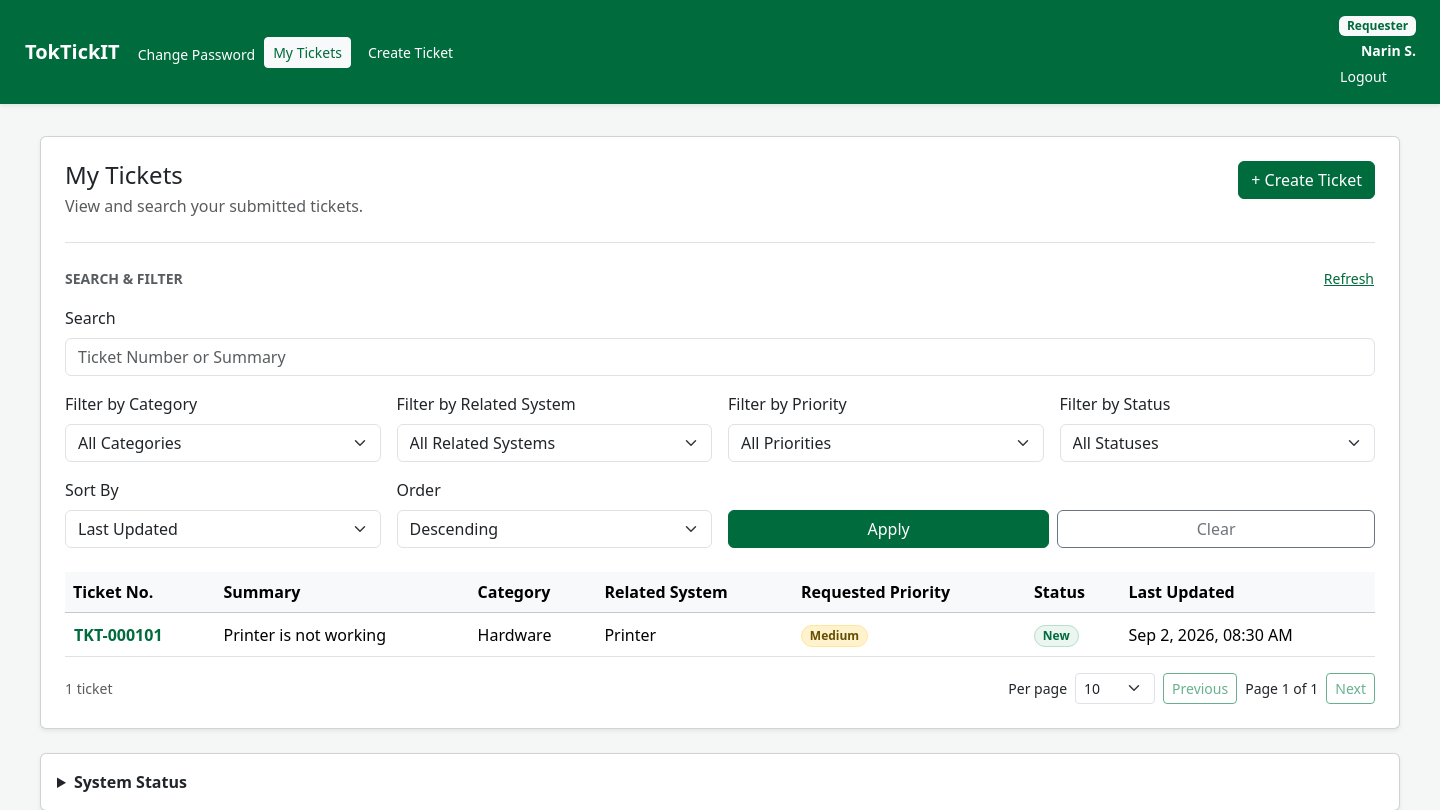
Scenario: Requester Ticket Detail › shows an error when Ticket Detail cannot be loaded
expect the heading "My Tickets" is shown: met, box [65, 158, 183, 191]
Step 1. Click the button with aria-label "View TKT-000101" → {"x": 118, "y": 635}, box [73, 622, 164, 648]
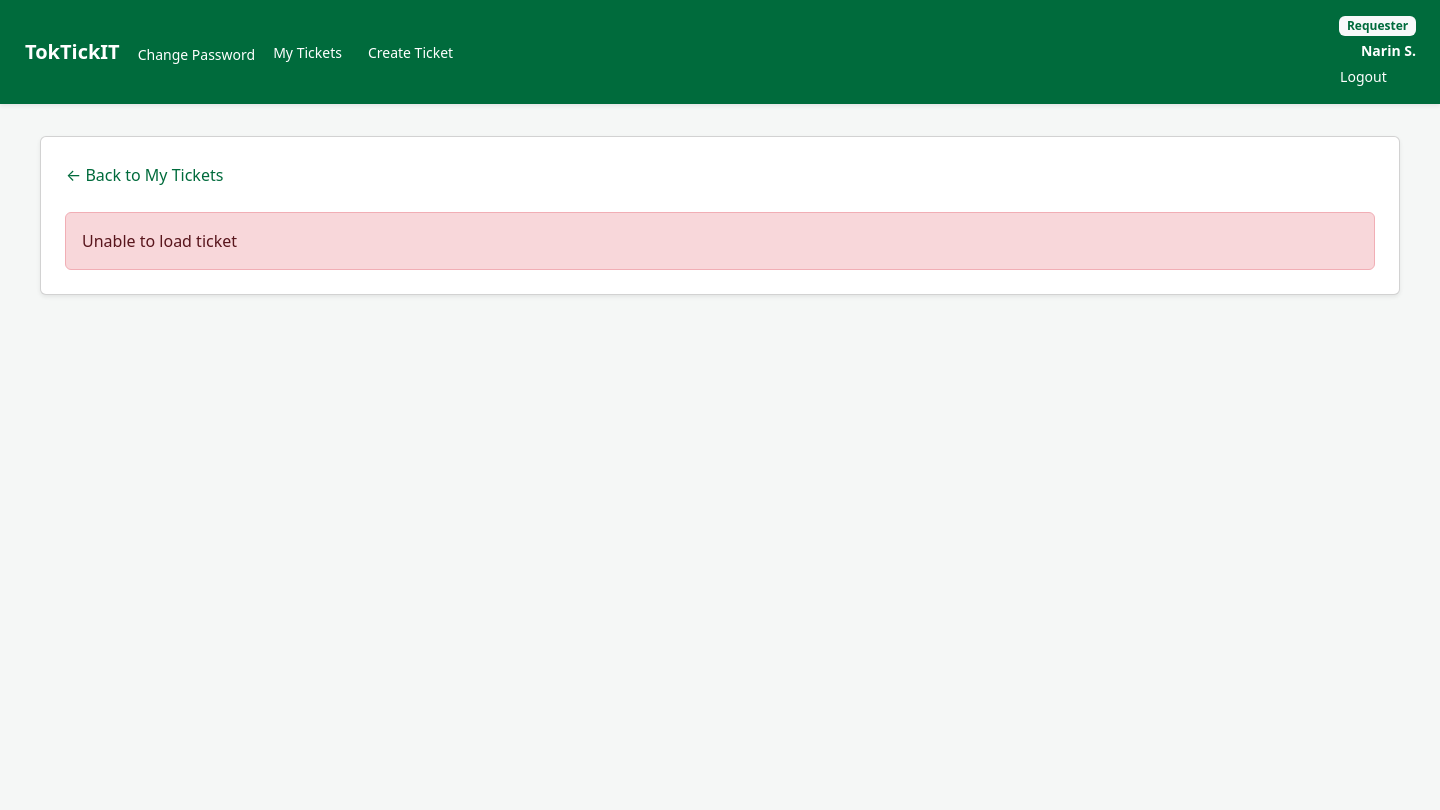
expect the text "Unable to load ticket" is shown: met, box [65, 212, 1375, 270]
